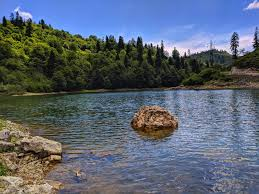lake: (10, 94, 250, 194)
mountain: (5, 25, 255, 85)
sky: (65, 6, 255, 49)
stone: (133, 106, 188, 133)
